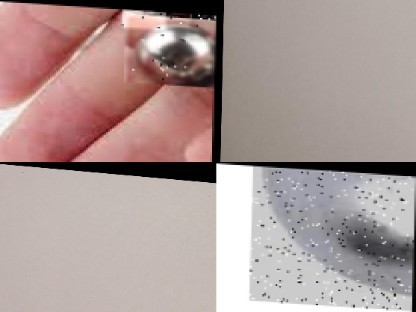ironball: (250, 164, 415, 307), (129, 17, 221, 89)
